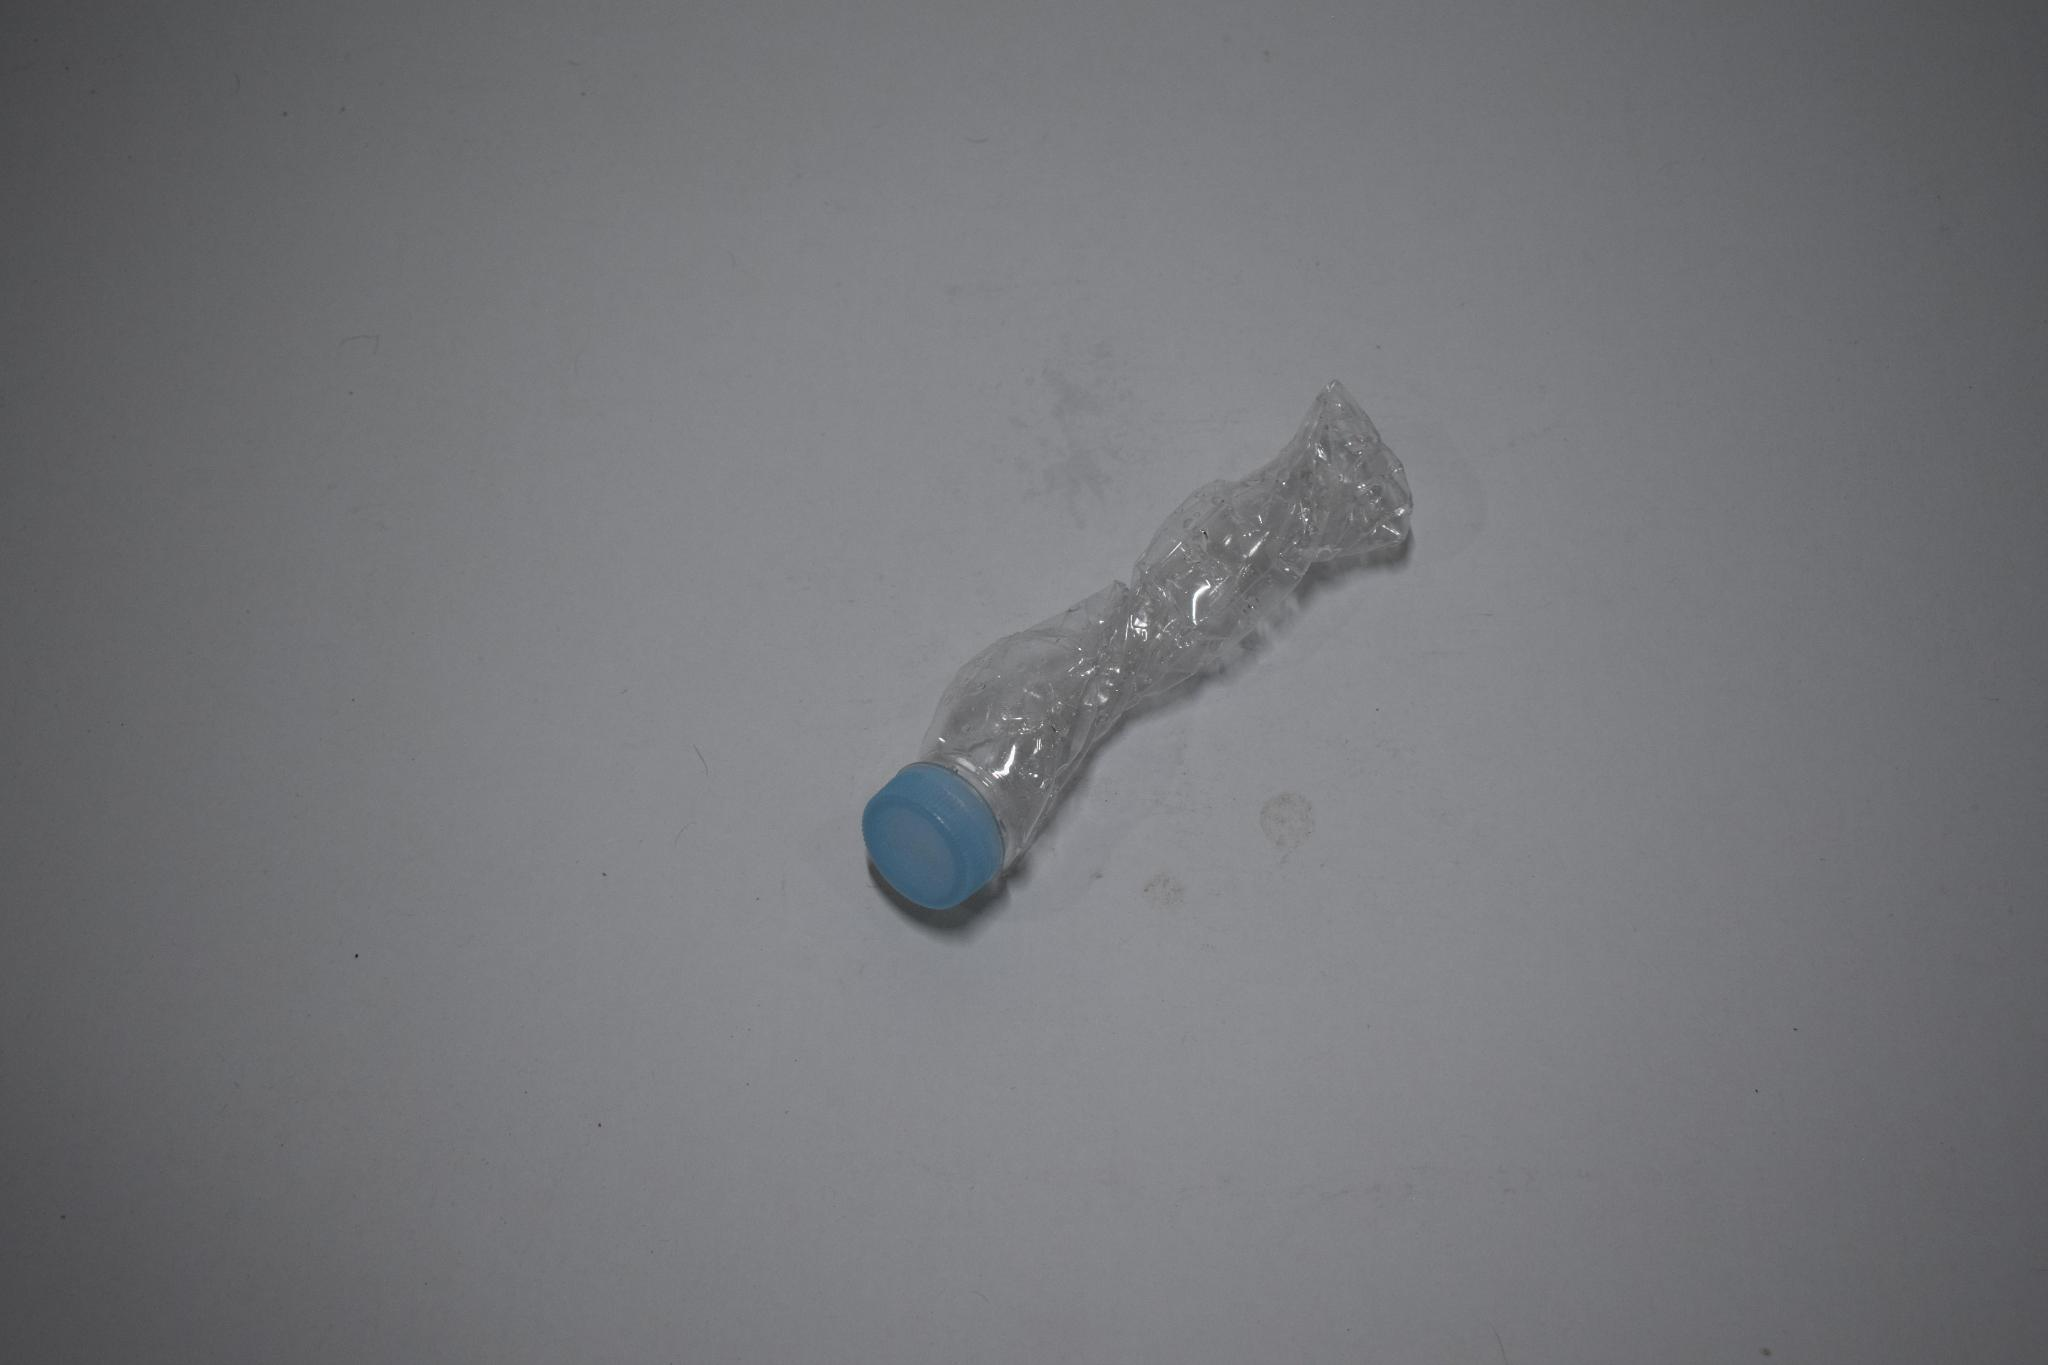bottle: (838, 328, 1438, 968)
